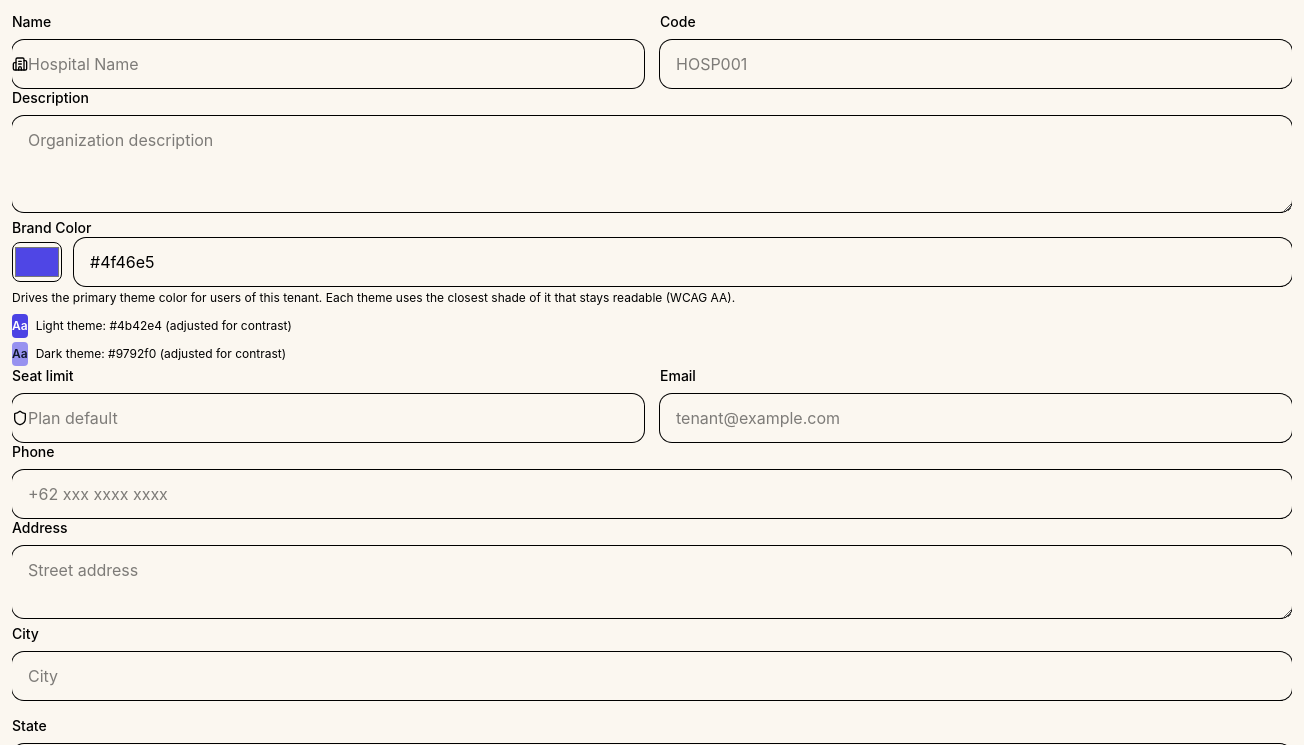
TenantFormFields › the colour picker and the hex box edit the same brand colour
This screenshot has width=1304, height=745.
In the colour field named "Brand color picker": (37, 262) [12,242,62,282], type "#112233"
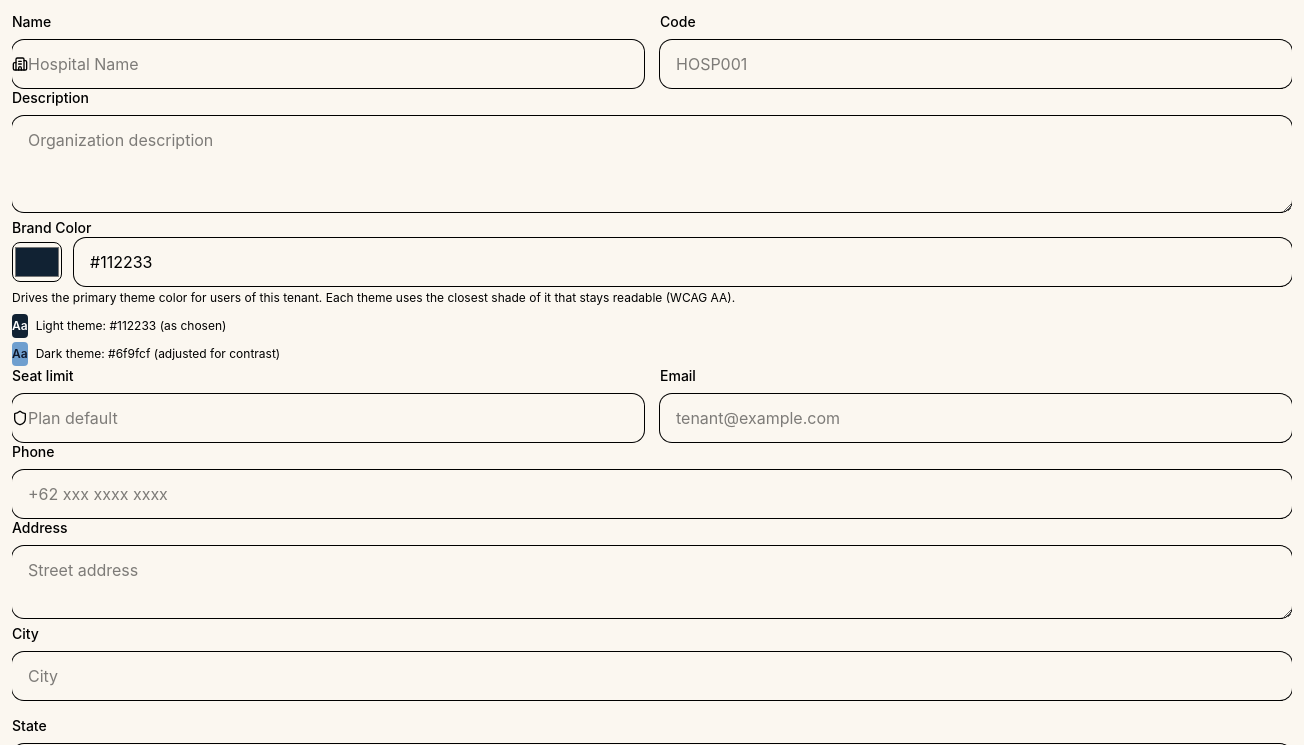
Now the field labelled "Brand Color" holds "#112233"
A value that is not #rrggbb yet (mid-typing) leaves the picker on the default.
Replace the text in the field labelled "Brand Color" with "#12": (683, 262) [74,238,1292,286]
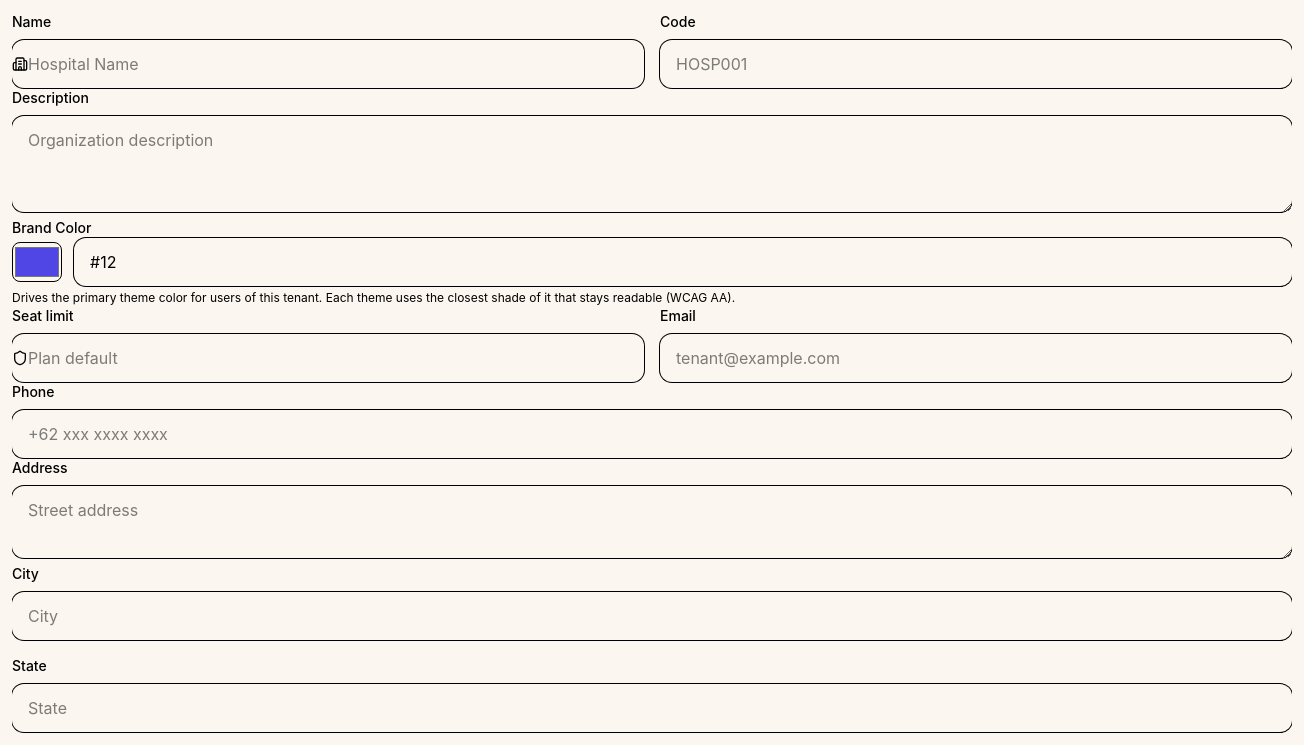
Now the colour field named "Brand color picker" holds "#4f46e5", box [12,242,62,282]
